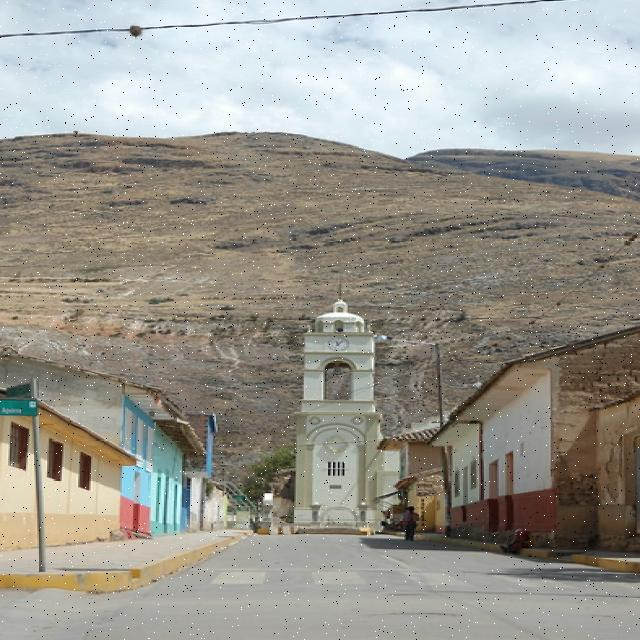CAMPANARIO: (300, 336, 386, 406)
CUPULA: (311, 304, 376, 332)
TORRES: (276, 283, 404, 536)
colonial-architecture-: (238, 267, 444, 541)
